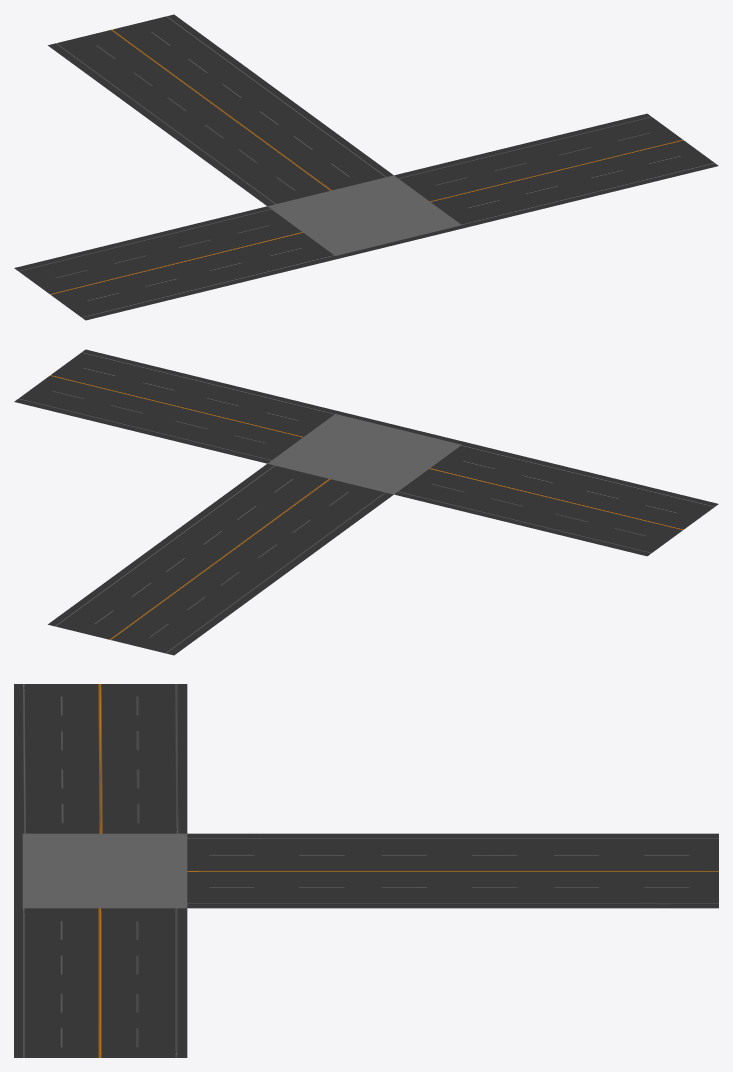
Rendered from cross_road.fbx.
3 views of the same model, one above another, from view 1: azimuth 30°, elevation 25°; view 2: azimuth 150°, elevation 25°; view 3: azimuth 270°, elevation 25° (orthographic). The views are drawn at different scales.
Visible parts, largest first — view 1: road_line1; view 2: road_line1; view 3: road_line1.
Boxes of the visible parts, x1,y1,x2,y2 form: road_line1: (14, 14, 718, 320); road_line1: (14, 349, 718, 655); road_line1: (14, 684, 718, 1057).
Bounding box in the file's own units: 10037 × 0 × 8001.
